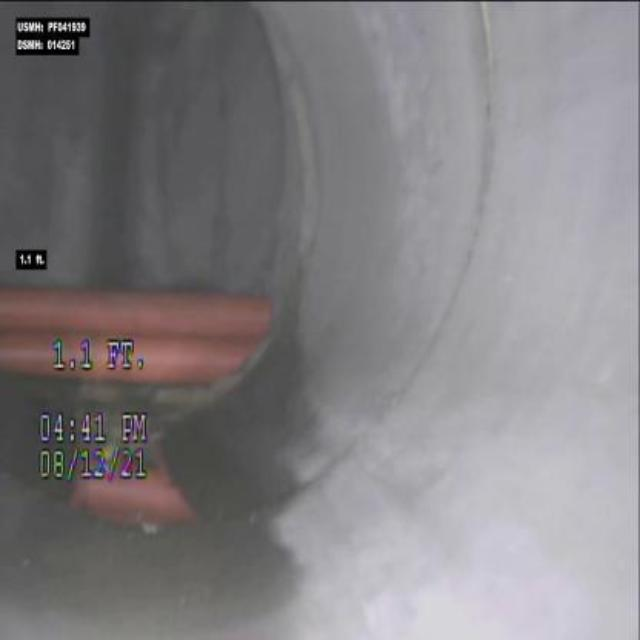Utility intrusion: (151, 266, 285, 414), (3, 271, 146, 340)
